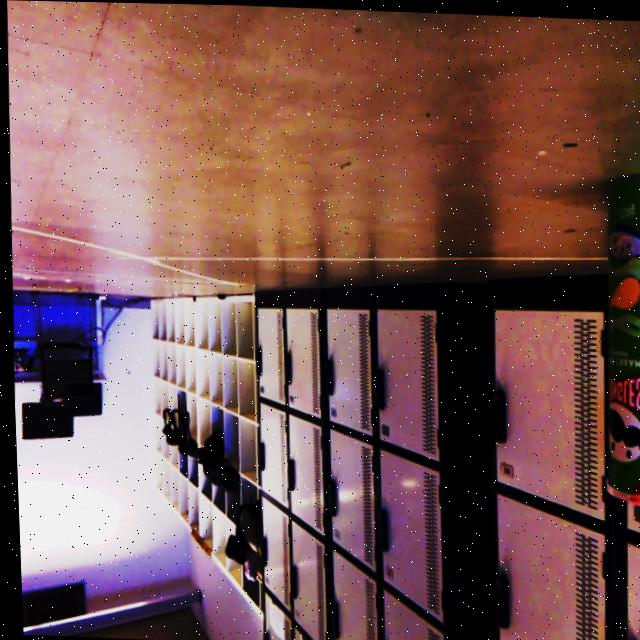greenpringles: (578, 160, 640, 513)
